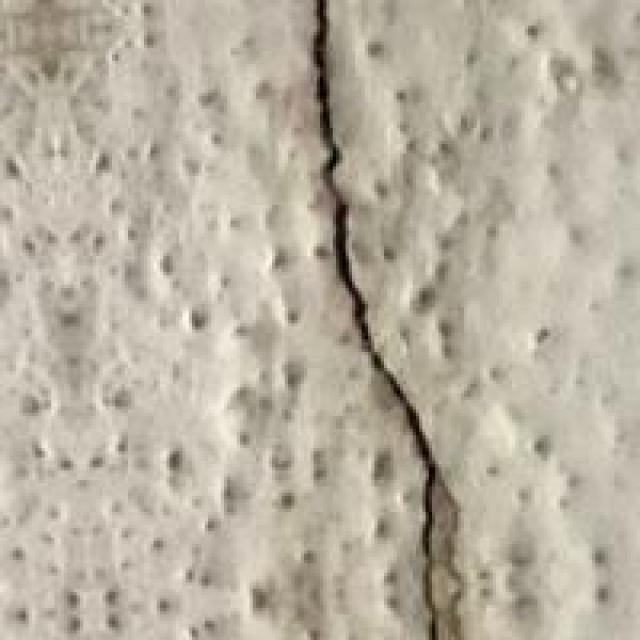crack: (266, 0, 490, 637)
